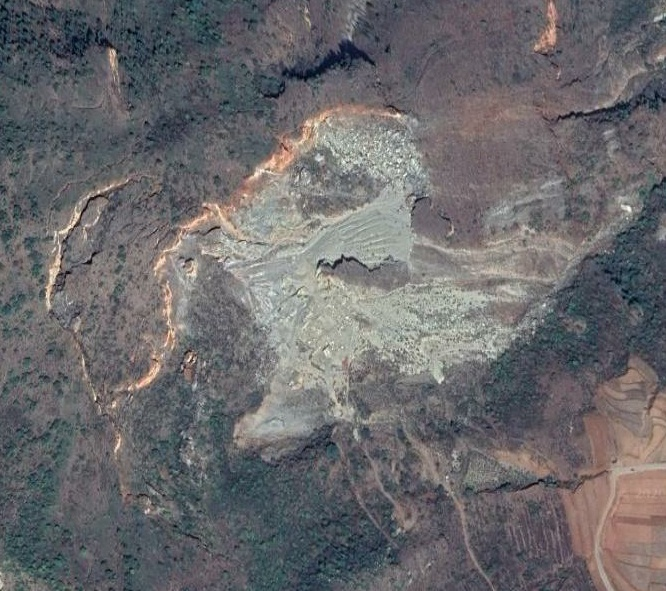slope: (157, 102, 642, 465)
